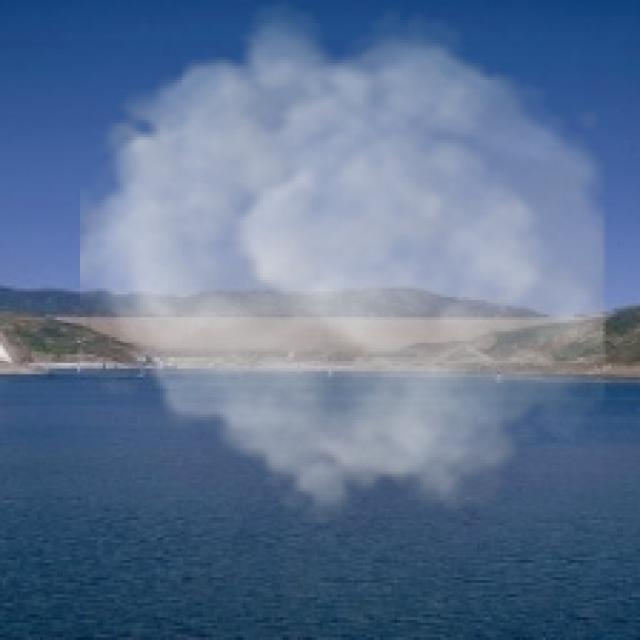smoke: (80, 0, 606, 529)
